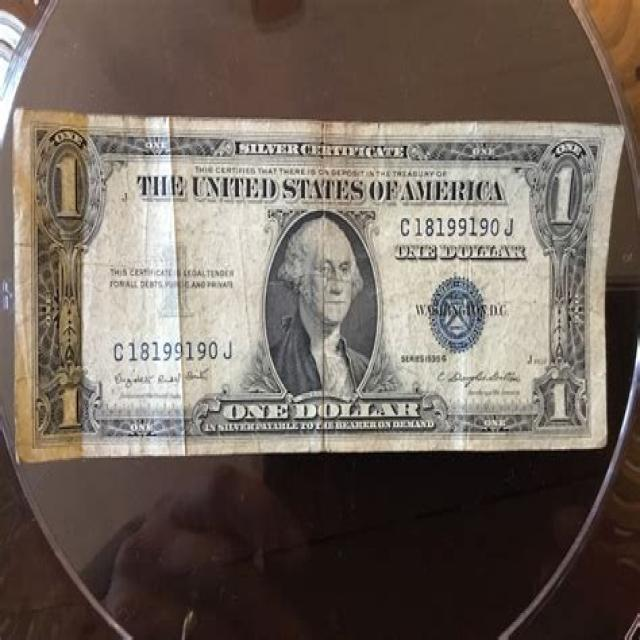One: (11, 109, 626, 464)
